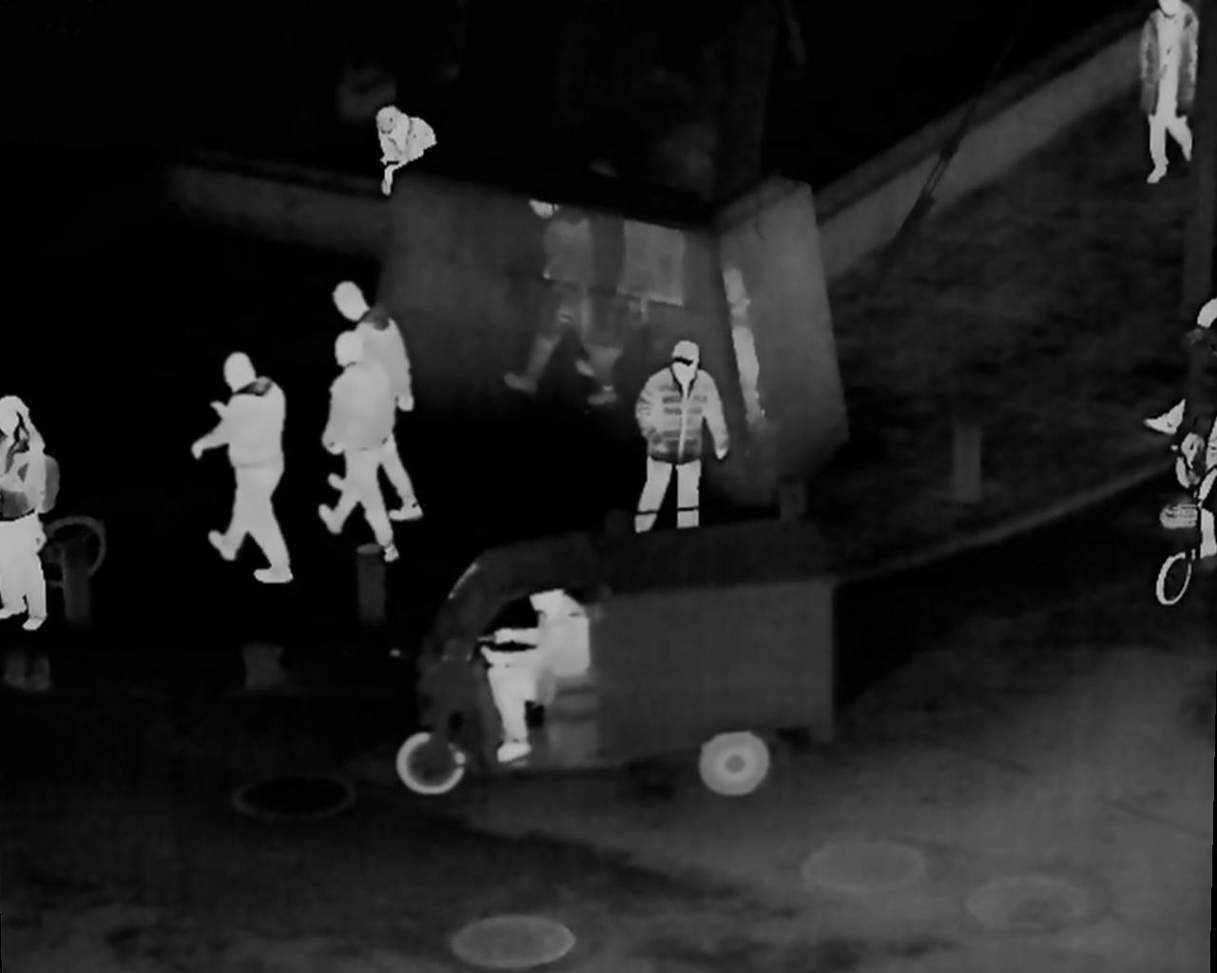person: (195, 353, 302, 583), (327, 277, 421, 514), (486, 586, 600, 773), (315, 331, 407, 553), (637, 338, 709, 540), (371, 105, 444, 200)
